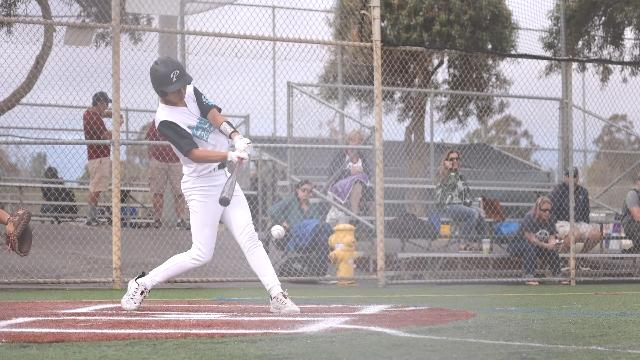ball: (270, 223, 286, 239)
bat: (221, 157, 243, 207)
